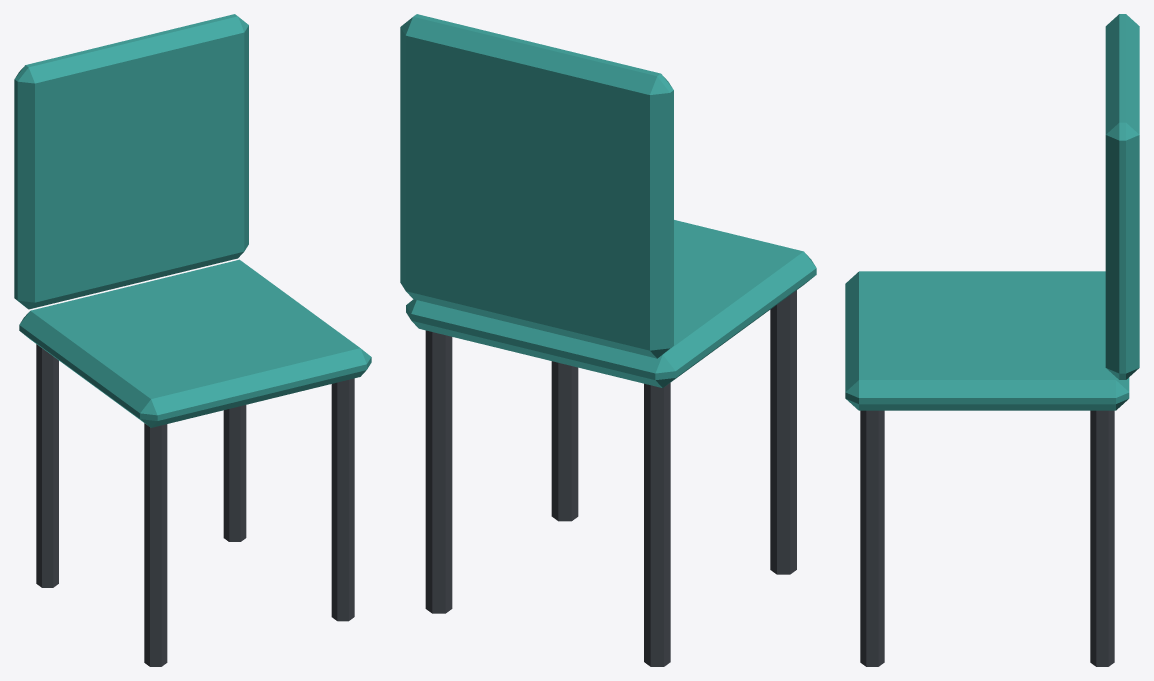
File: kitchen_chair.glb
3 views of the same model, side by side, from view 1: azimuth 30°, elevation 25°; view 2: azimuth 150°, elevation 25°; view 3: azimuth 270°, elevation 25° (orthographic). The views are drawn at different scales.
Visible parts, largest first — view 1: kitchen_chair_mesh; view 2: kitchen_chair_mesh; view 3: kitchen_chair_mesh.
Part boxes in pixels (left/top/right/bottom): kitchen_chair_mesh: left=14, top=14, right=371, bottom=666; kitchen_chair_mesh: left=400, top=14, right=816, bottom=666; kitchen_chair_mesh: left=845, top=14, right=1139, bottom=666.
Size of the model in its own units: 0.42 by 0.89 by 0.435.
